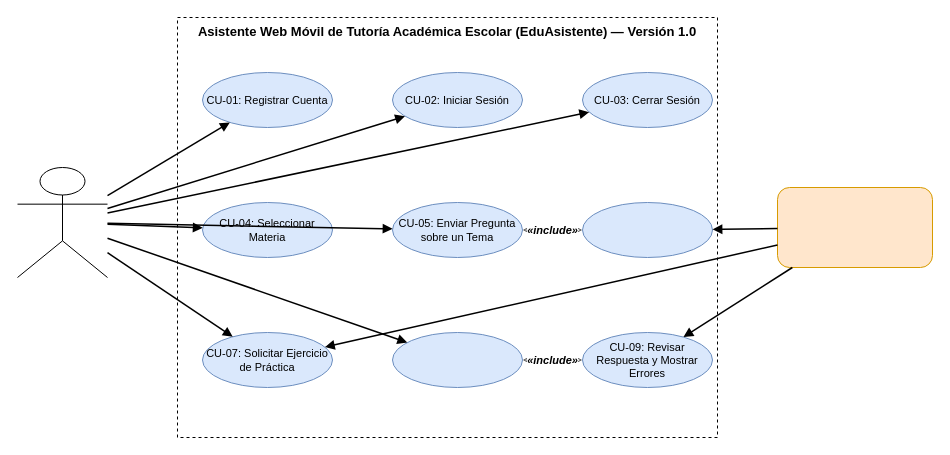
Image size: 950x455. Some labels were removed from this diagram. The centre of each missing label's shape, as x and y in pixels:
CU-06: Recibir Explicación Paso a Paso: [647,230]
CU-08: Enviar Respuesta de Ejercicio: [457,360]
Estudiante «actor principal»: [62,222]
«actor de soporte» Sistema Asistente: [854,227]
